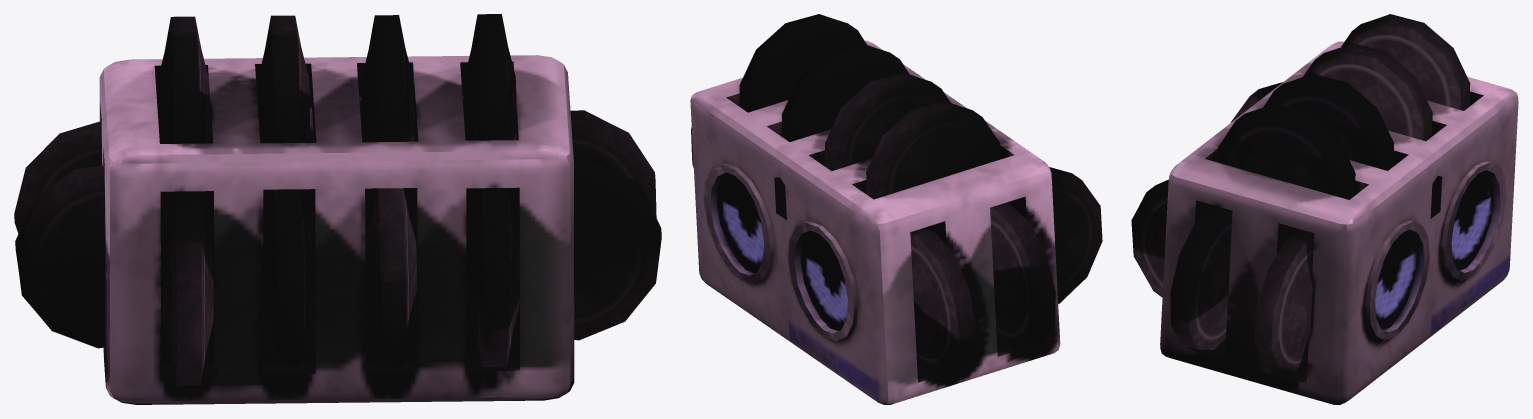
The model's file is bobak.glb.
3 views of the same model, side by side, from view 1: azimuth 30°, elevation 25°; view 2: azimuth 150°, elevation 25°; view 3: azimuth 270°, elevation 25° (orthographic). The views are drawn at different scales.
Visible parts, largest first — view 1: bobak_body, filter.015, filter.013, filter.012, filter.010, filter.009, filter.011, filter.007, filter.008, filter.016, filter.014; view 2: bobak_body, filter.008, filter.016, filter.015, filter.007, filter.012; view 3: bobak_body, filter.013, filter.014, filter.007, filter.008, filter.009, filter.012.
Part boxes in pixels (left/top/right/bottom): bobak_body: left=99, top=14, right=574, bottom=404; filter.015: left=15, top=165, right=104, bottom=348; filter.013: left=573, top=157, right=661, bottom=340; filter.012: left=161, top=193, right=213, bottom=386; filter.010: left=365, top=188, right=416, bottom=368; filter.009: left=468, top=188, right=519, bottom=366; filter.011: left=262, top=189, right=312, bottom=366; filter.007: left=257, top=15, right=309, bottom=143; filter.008: left=157, top=16, right=209, bottom=143; filter.016: left=14, top=121, right=101, bottom=233; filter.014: left=570, top=110, right=656, bottom=217; bobak_body: left=690, top=14, right=1060, bottom=404; filter.008: left=866, top=100, right=1000, bottom=199; filter.016: left=910, top=228, right=976, bottom=377; filter.015: left=990, top=202, right=1055, bottom=348; filter.007: left=825, top=72, right=950, bottom=171; filter.012: left=1049, top=167, right=1102, bottom=303; bobak_body: left=1160, top=41, right=1518, bottom=404; filter.013: left=1170, top=205, right=1232, bottom=349; filter.014: left=1254, top=229, right=1314, bottom=376; filter.007: left=1303, top=43, right=1432, bottom=141; filter.008: left=1341, top=14, right=1470, bottom=110; filter.009: left=1131, top=179, right=1168, bottom=297; filter.012: left=1230, top=82, right=1282, bottom=122.
Size of the model in its own units: 0.5198 by 0.2993 by 0.403.
Materials: 2 (2 with a texture image).
